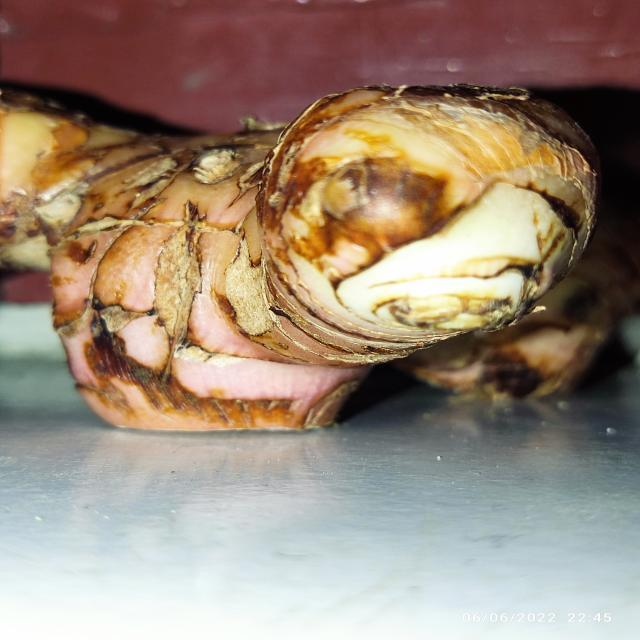ginger: (11, 98, 622, 432)
